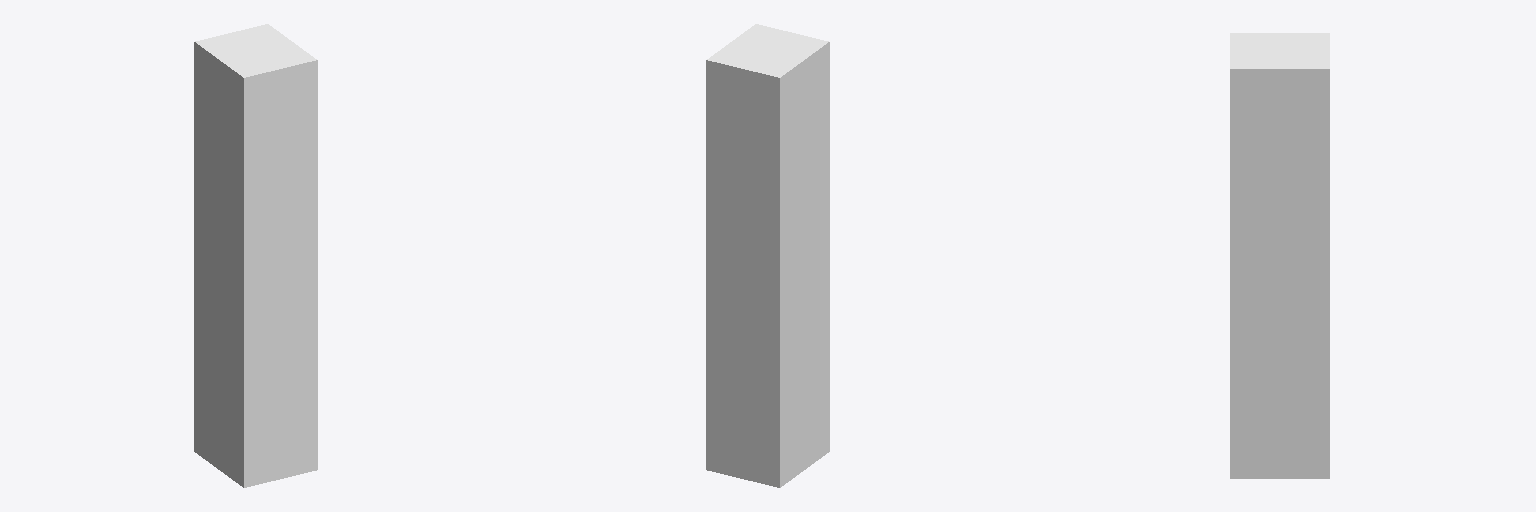
File: mob-1.obj
The picture shows the model from 3 angles: view 1: azimuth 30°, elevation 25°; view 2: azimuth 150°, elevation 25°; view 3: azimuth 270°, elevation 25°; orthographic projection.
Parts seen in each view (by area): view 1: object 1; view 2: object 1; view 3: object 1.
Part boxes in pixels (bbox=[...]): object 1: bbox=[194, 24, 317, 487]; object 1: bbox=[706, 24, 829, 487]; object 1: bbox=[1230, 33, 1329, 478].
Size of the model in its own units: 0.6 by 3.2 by 0.7.